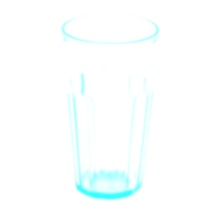glass: (51, 9, 170, 203)
